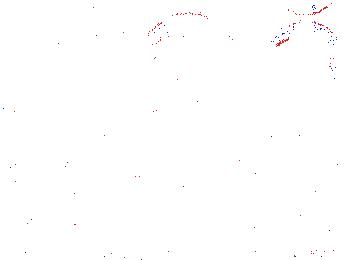moon jellyfish: (139, 12, 238, 84), (61, 10, 157, 64), (1, 11, 72, 84), (265, 20, 340, 82)
